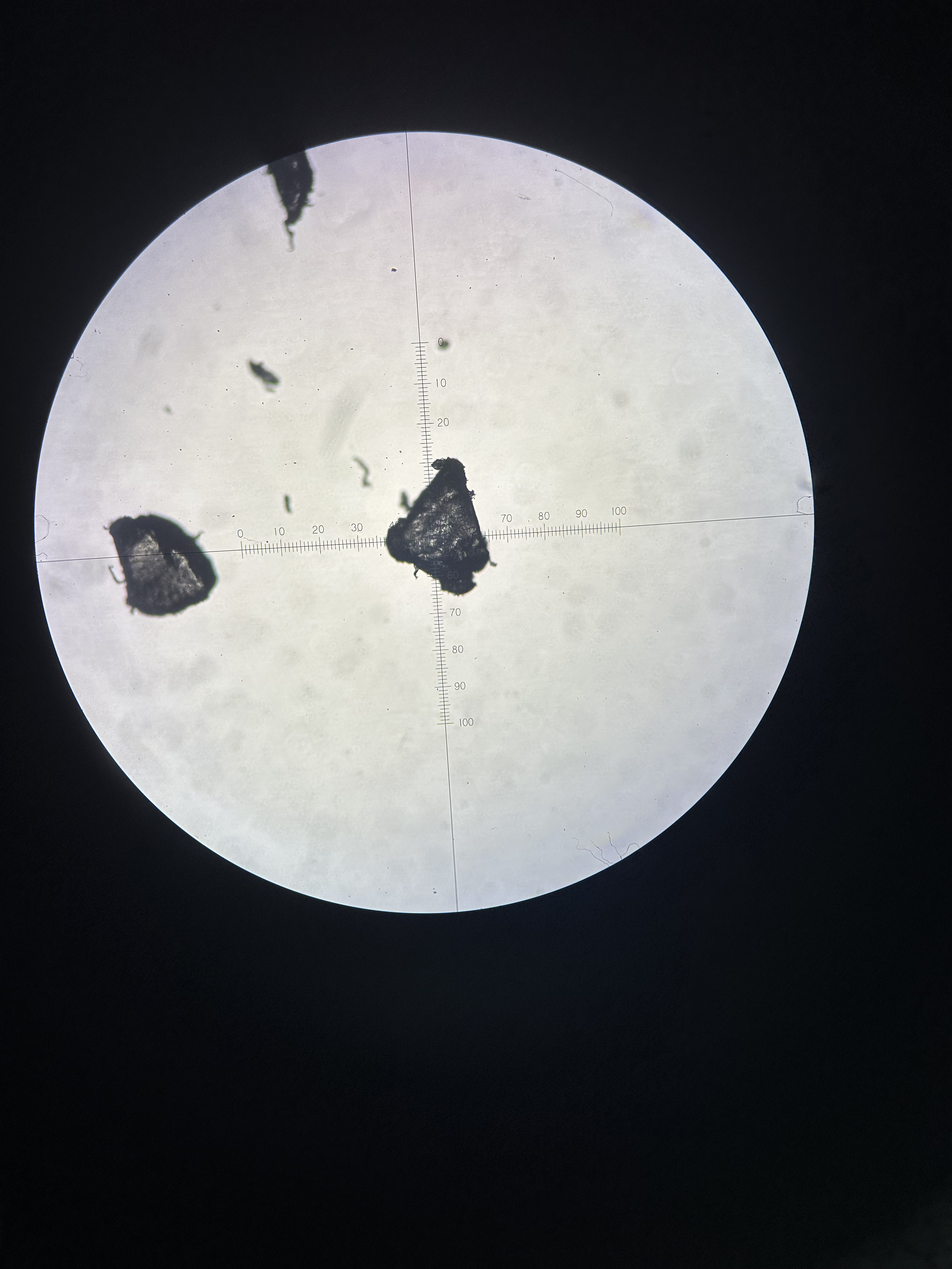microplastic: (455, 454, 599, 567), (511, 731, 621, 851), (146, 635, 256, 691), (358, 667, 396, 705), (455, 578, 488, 601), (489, 537, 517, 553), (495, 659, 514, 670), (340, 500, 352, 516), (267, 554, 274, 562)
